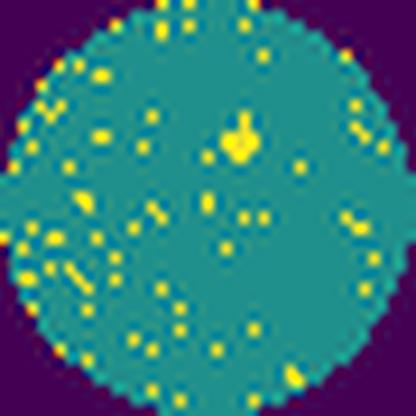Edge-Loc: (216, 108, 262, 164)
